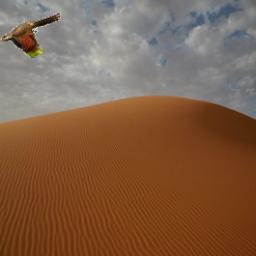Cuckoo: (0, 12, 61, 58)
